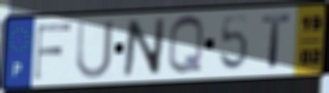5: (216, 14, 251, 73)
F: (32, 22, 74, 82)
N: (121, 16, 168, 79)
Q: (166, 14, 207, 78)
T: (260, 13, 293, 70)
U: (74, 18, 116, 81)
